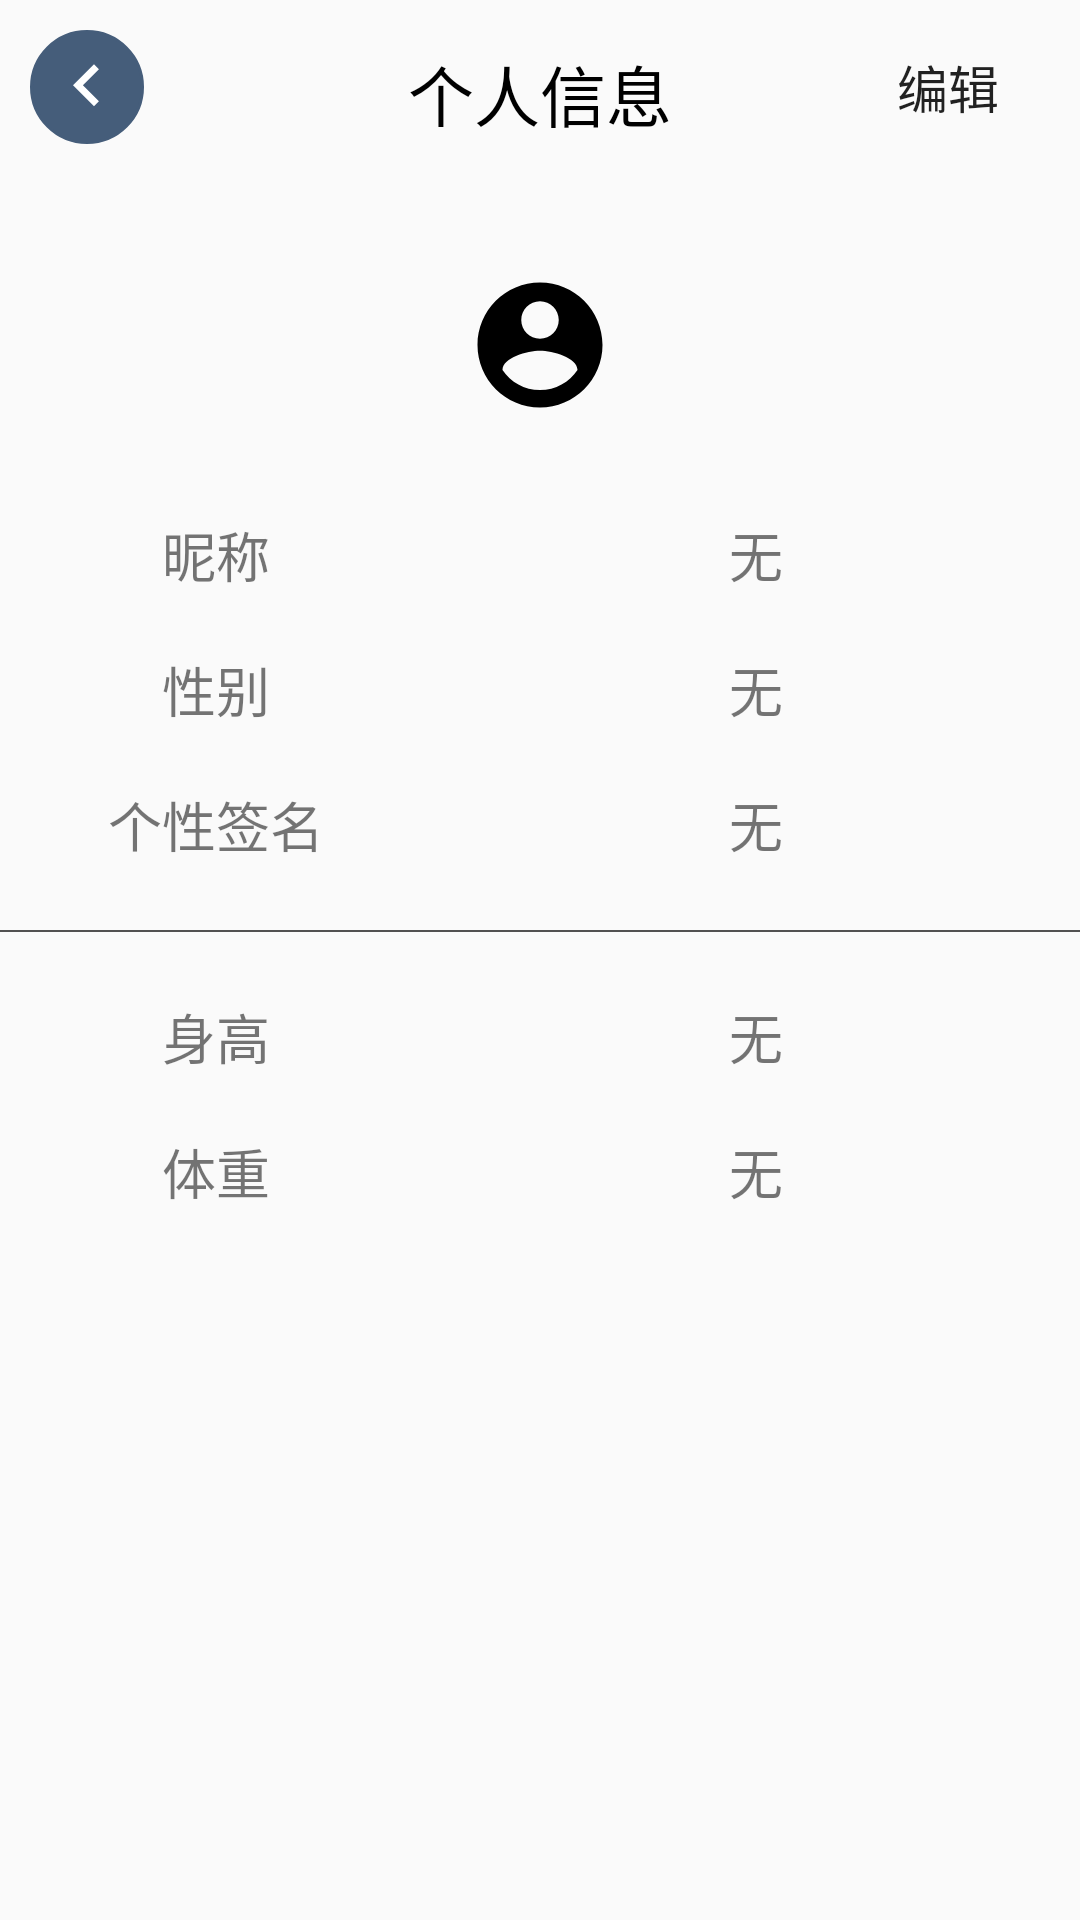

Locate icon controls on the screen. Image size 1080px×1920px, boxes as (x1, y1, x2, y2).
account circle: (477, 282, 603, 408)
keyboard arrow left: (30, 30, 144, 144)
